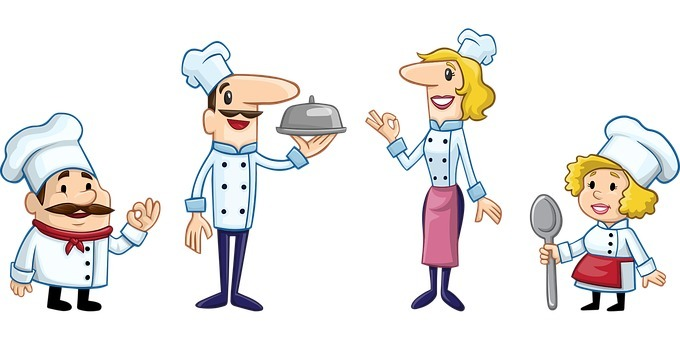person: (177, 39, 341, 316), (365, 23, 505, 313), (1, 113, 159, 315), (534, 108, 679, 314)
